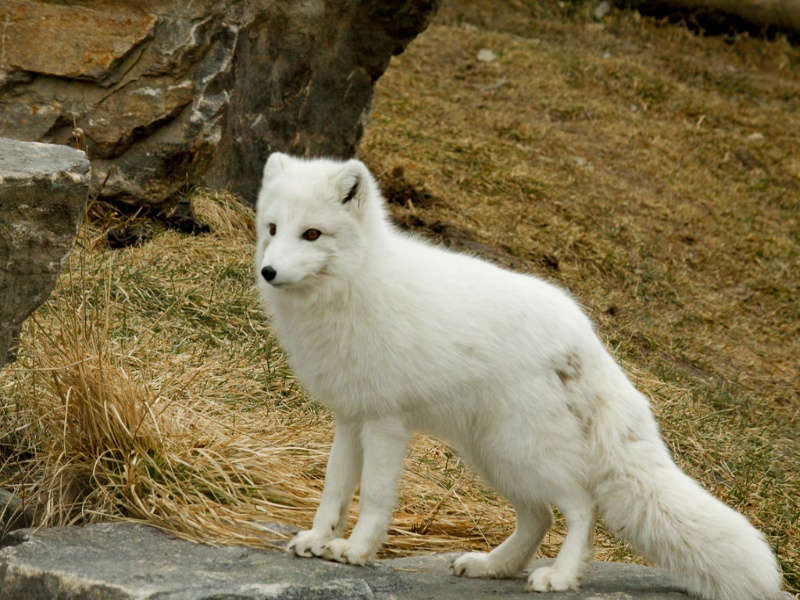fox: (255, 150, 791, 600)
